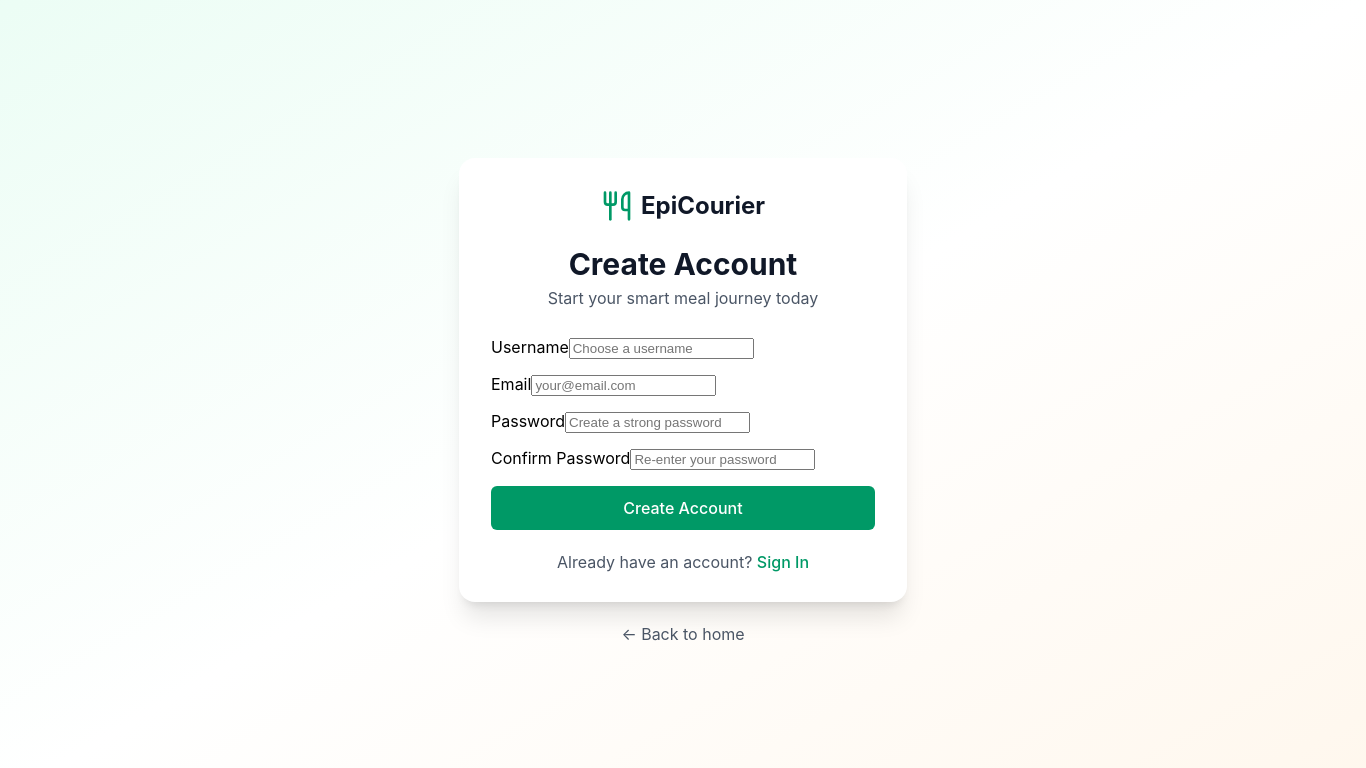
Test case: ✅ SignUp Component (stable tests) › shows password mismatch error
Type "tester" into the field labelled "Username" at [661, 348], box [569, 338, 754, 359]
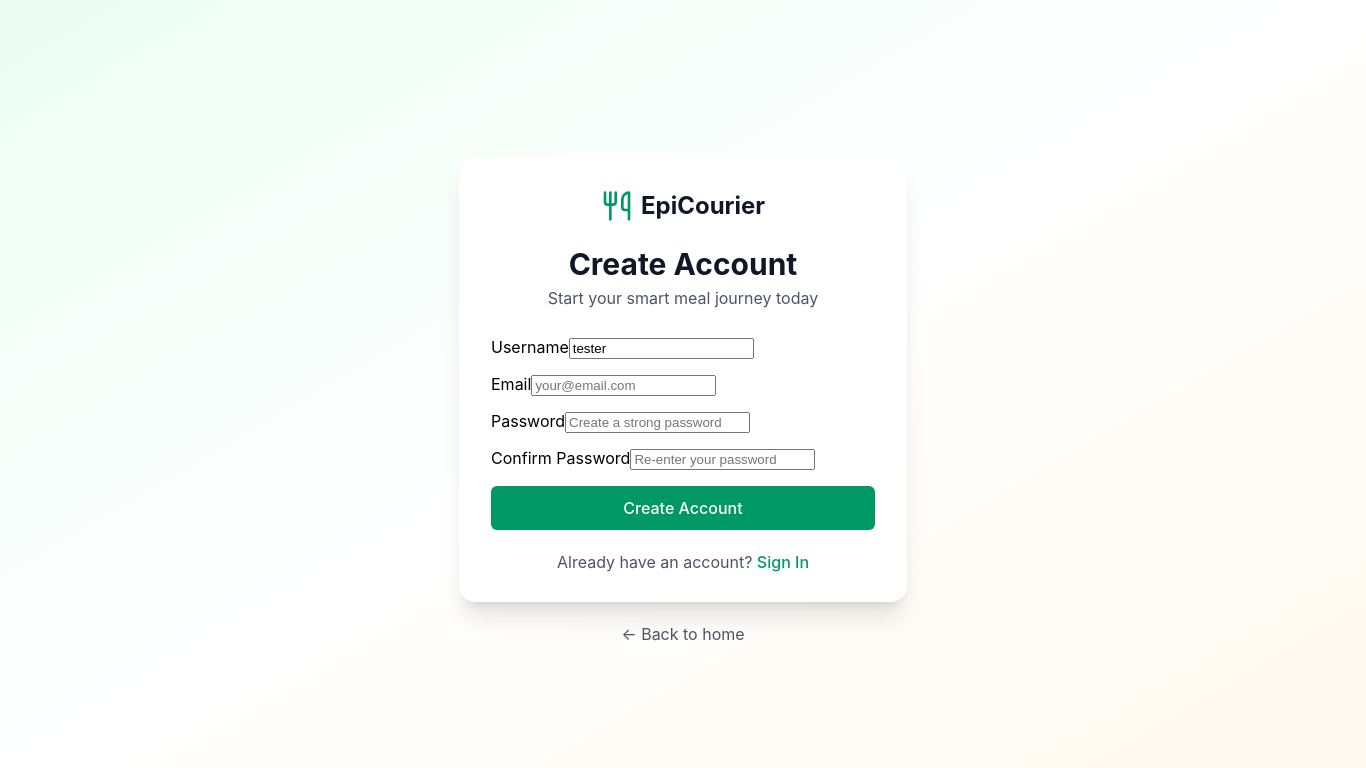
Type "e@e.com" into the field labelled "Email" at [624, 386], box [531, 375, 716, 396]
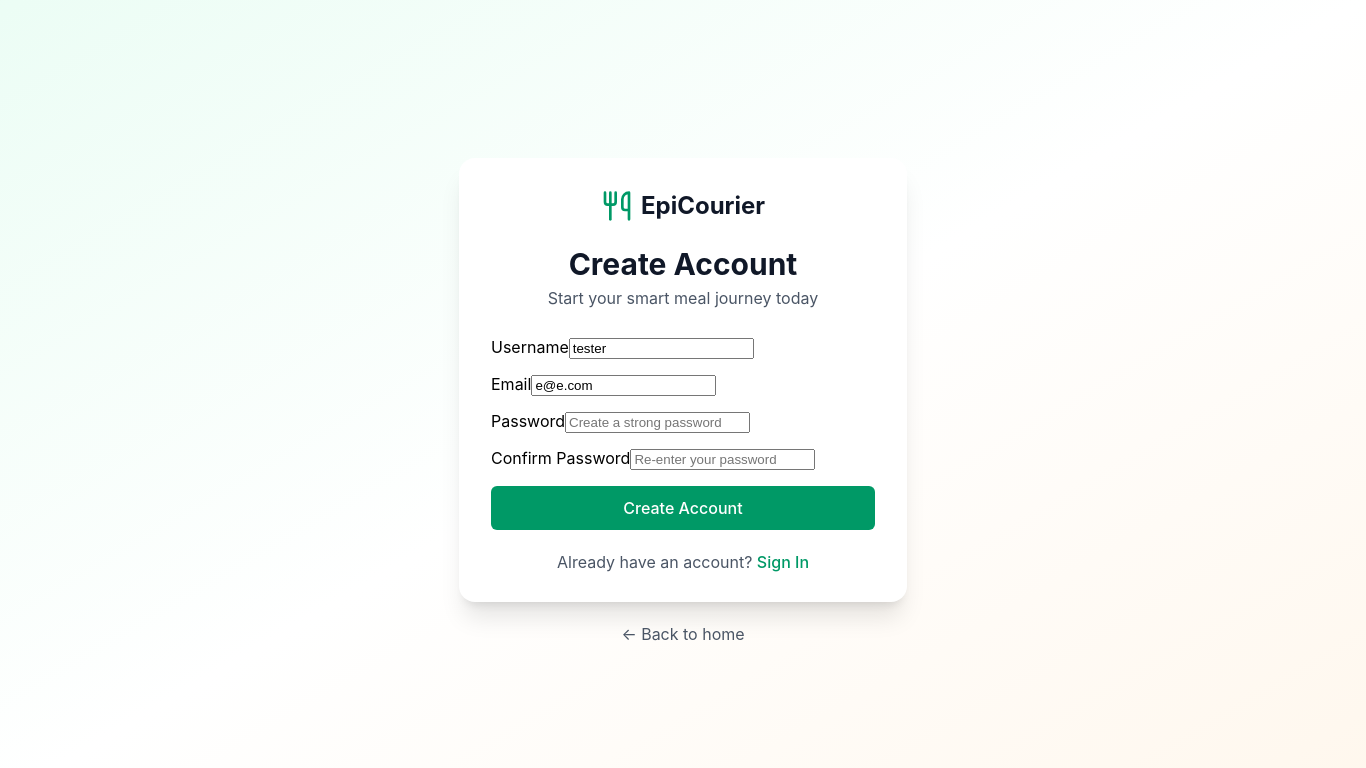
Type "Abc12345" into the password field labelled "Password" at [658, 422], box [565, 412, 750, 433]
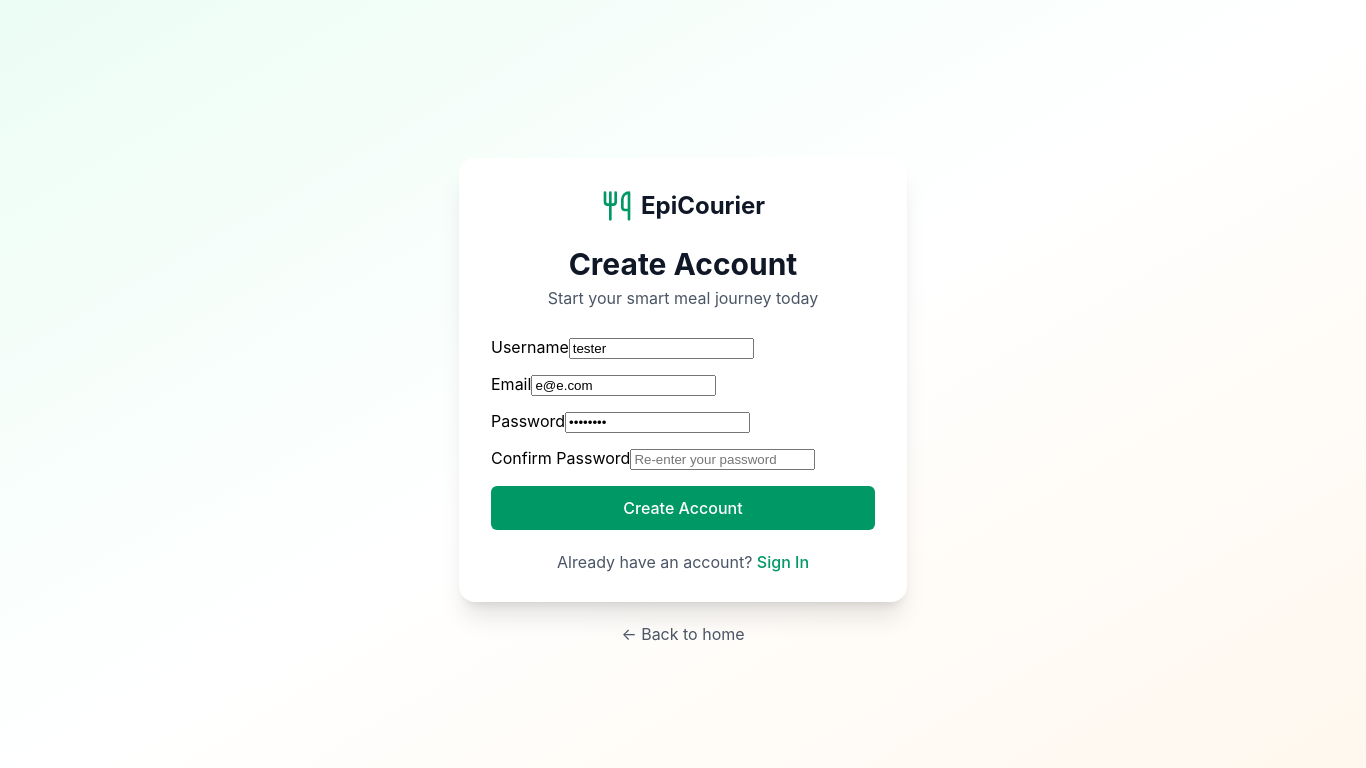
Type "Different" into the password field labelled "Confirm Password" at [723, 460], box [630, 449, 815, 470]
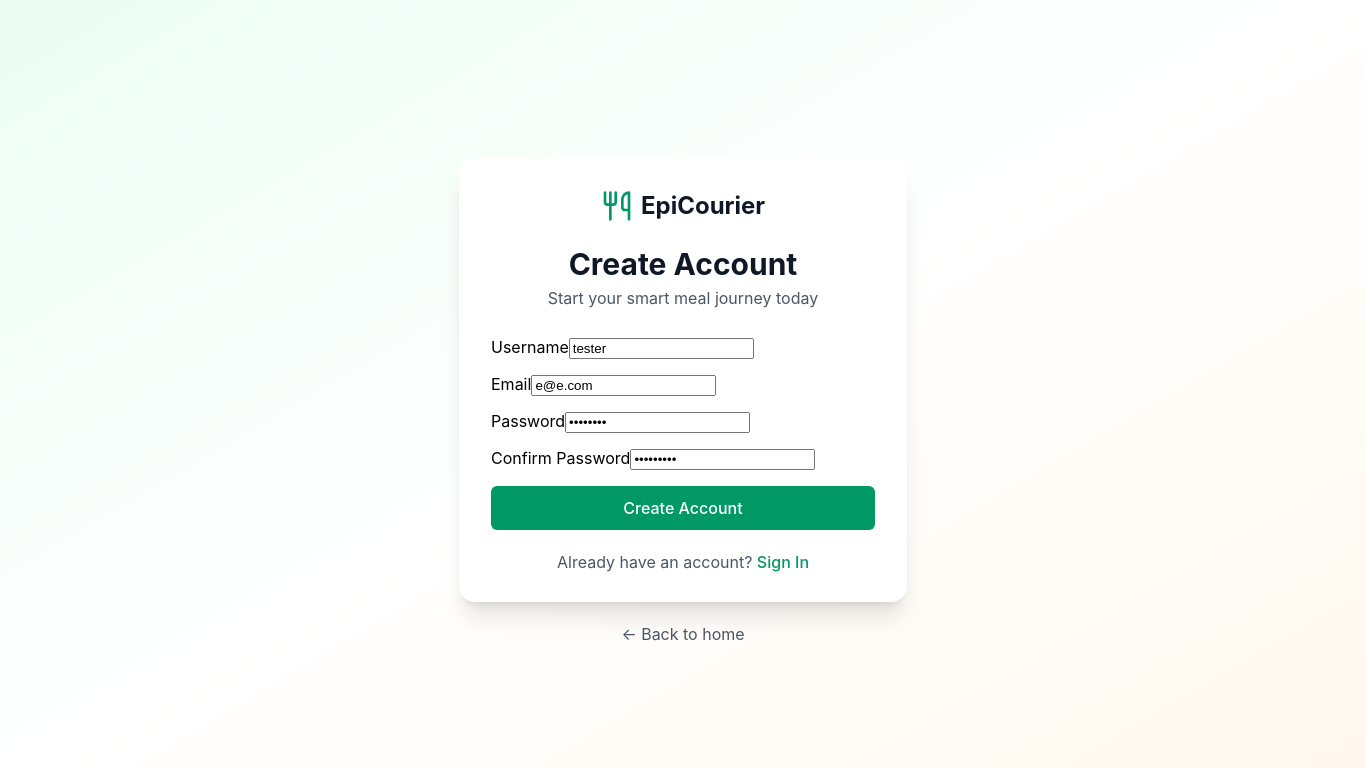
Click the button "Create Account" at [683, 508], box [491, 486, 875, 530]
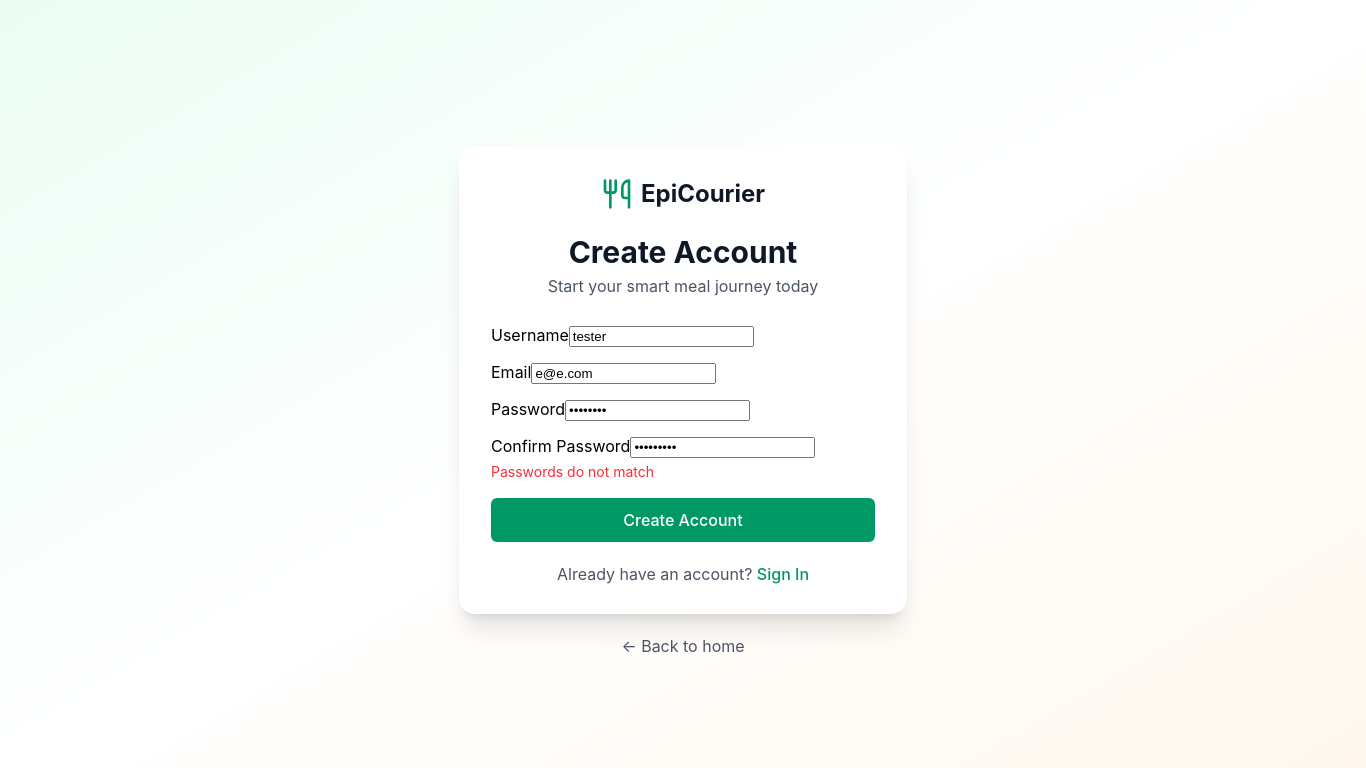
Expected: the text "Passwords do not match" is shown, [491, 463, 654, 480]
